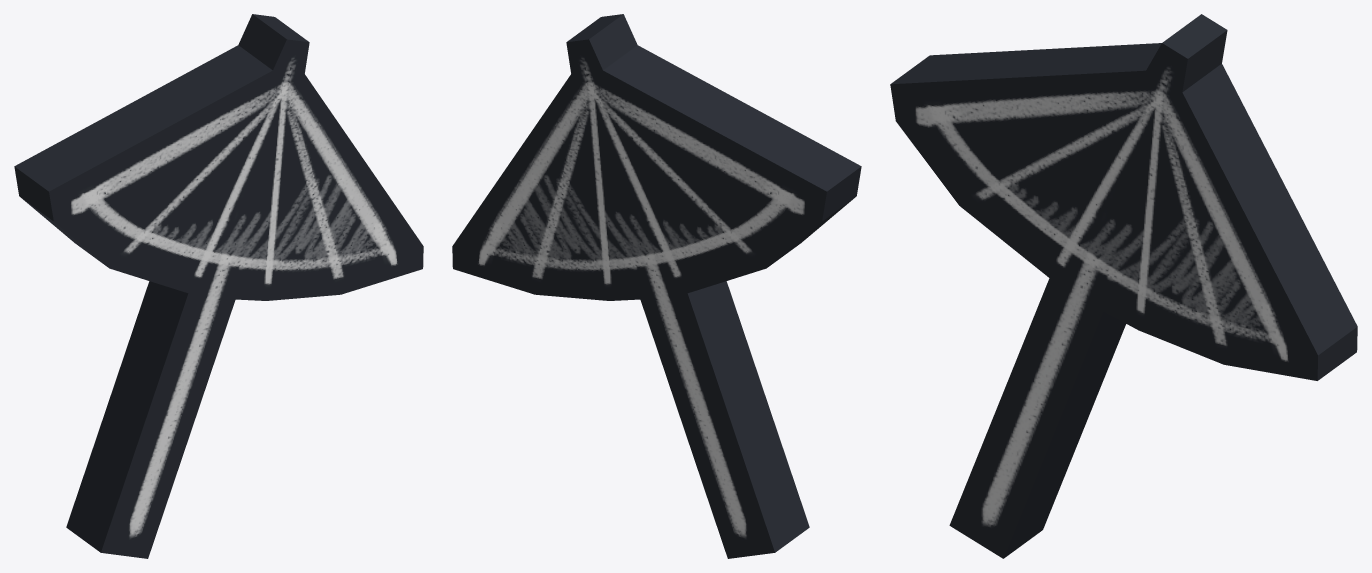
Rendered from Parasol.fbx.
3 views of the same model, side by side, from view 1: azimuth 30°, elevation 25°; view 2: azimuth 150°, elevation 25°; view 3: azimuth 330°, elevation 25° (orthographic). The views are drawn at different scales.
Visible parts, largest first — view 1: m_Parasol; view 2: m_Parasol; view 3: m_Parasol.
Boxes of the visible parts, x1=… form: m_Parasol: x1=14, y1=14, x2=423, y2=558; m_Parasol: x1=452, y1=14, x2=861, y2=558; m_Parasol: x1=890, y1=14, x2=1357, y2=558.
Size of the model in its own units: 0.6243 by 0.7734 by 0.1.
